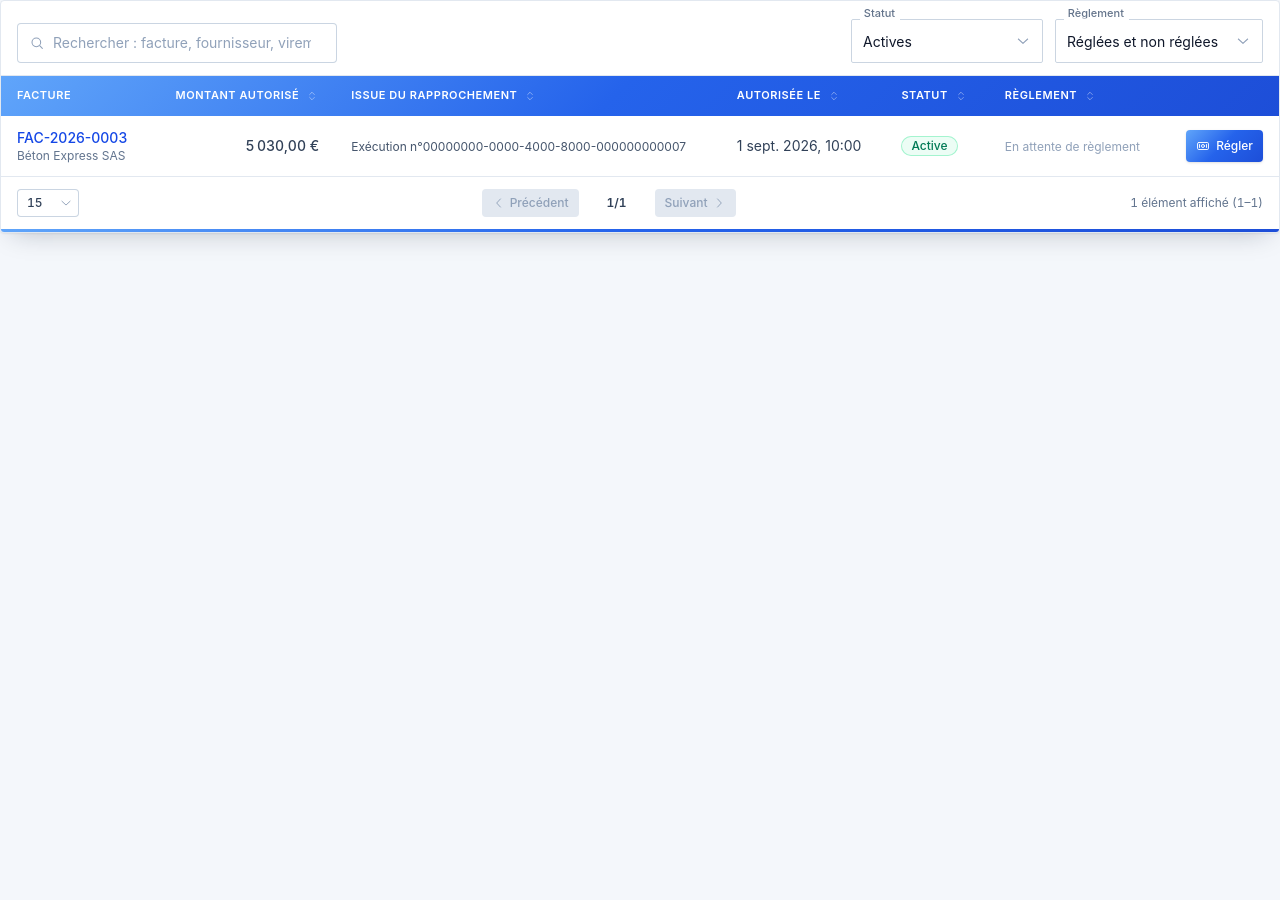
Test case: PaymentAuthorizationList › relaie un refus du backend sur une autorisation déjà réglée
Click the button "Régler".
click(1225, 146)  # box [1186,130,1263,162]
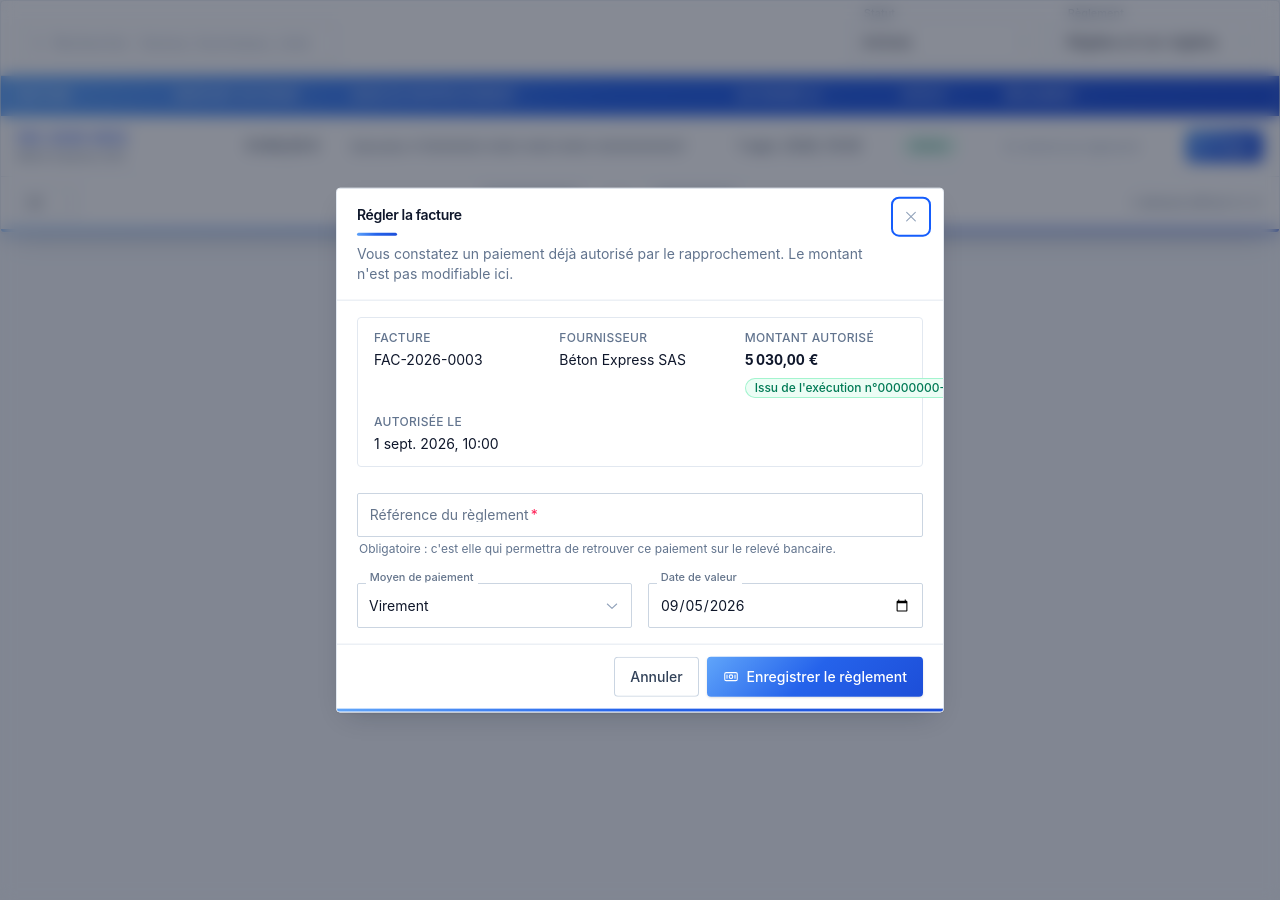
Type "VIR-2026-00099" into the field labelled "Référence du règlement*".
click(640, 515); type("VIR-2026-00099")  # box [357,493,923,537]
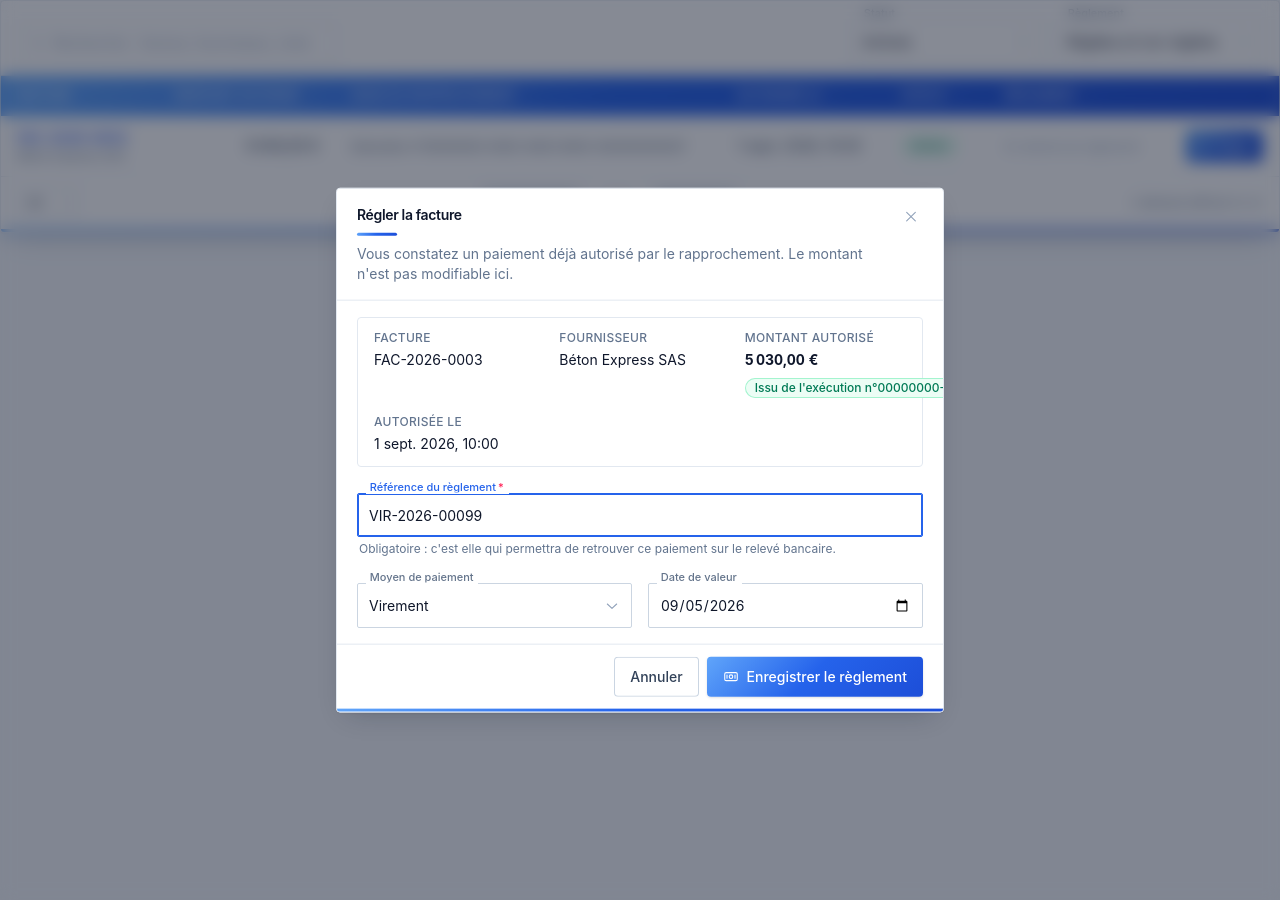
Click the button "Enregistrer le règlement".
click(815, 676)  # box [707,656,923,696]
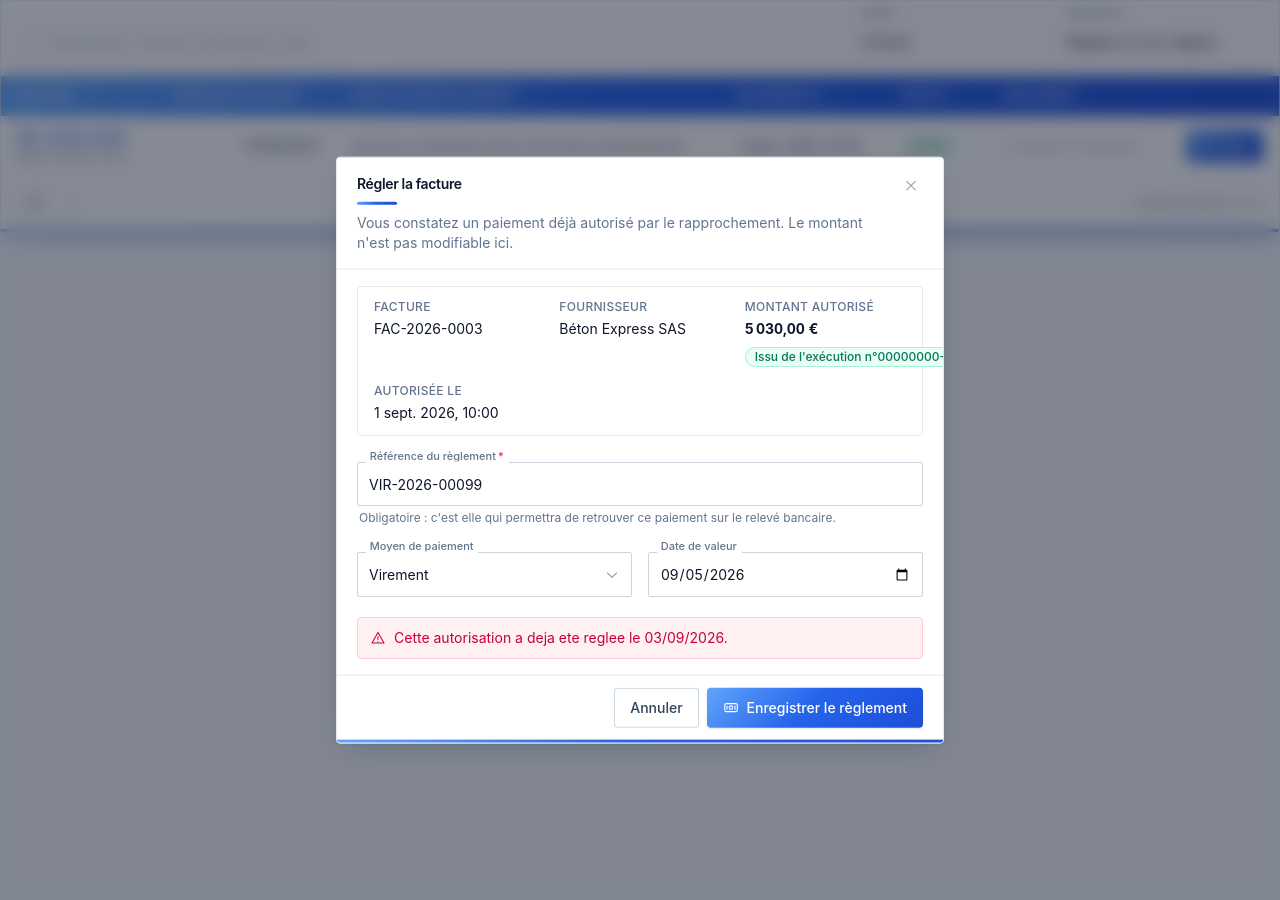
Expected: the text "Cette autorisation a deja ete reglee le 03/09/2026." is shown, [394,627,728,647]
